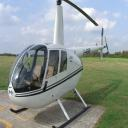helicopter: (7, 2, 112, 128)
